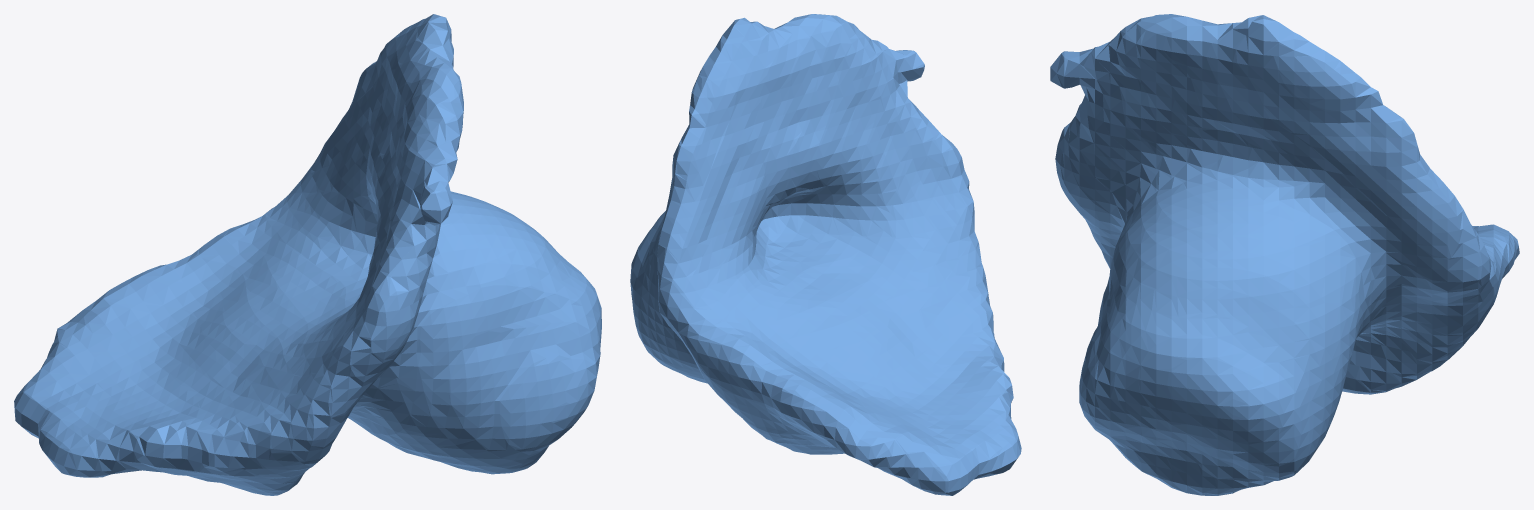
File: water_0021.glb
The picture shows the model from 3 angles, left to right: view 1: azimuth 30°, elevation 25°; view 2: azimuth 150°, elevation 25°; view 3: azimuth 270°, elevation 25°; orthographic projection. The views are drawn at different scales.
Visible parts, largest first — view 1: Water_0021; view 2: Water_0021; view 3: Water_0021.
Boxes of the visible parts, x1,y1,x2,y2 form: Water_0021: (14,14,601,495); Water_0021: (630,14,1021,495); Water_0021: (1050,14,1519,495).
Bounding box in the file's own units: 2.2 × 1.9 × 1.79.
